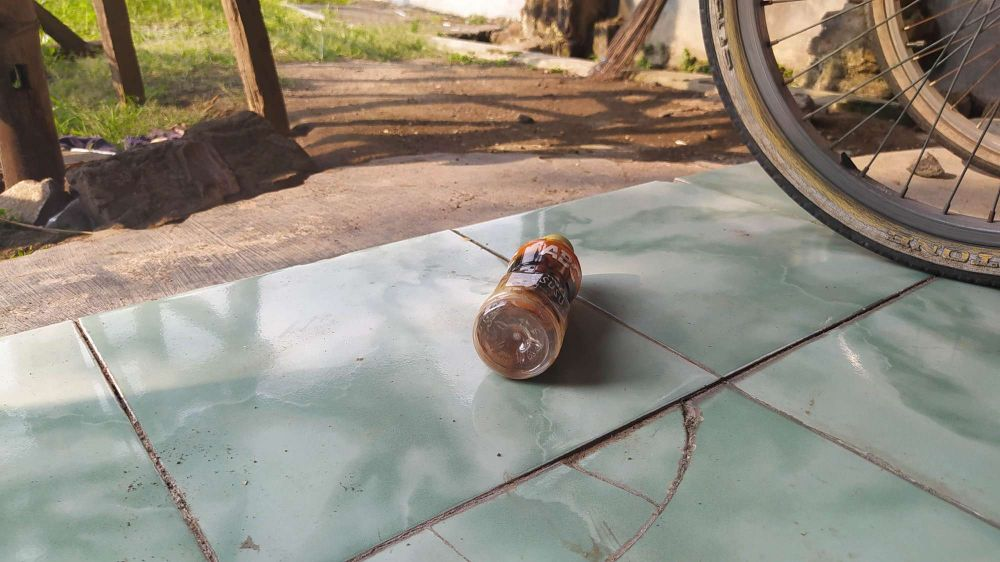botol: (484, 213, 599, 394)
